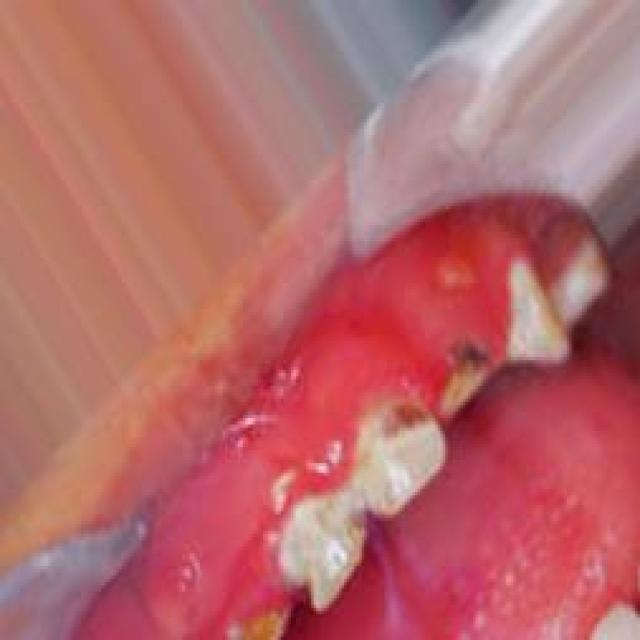caries: (432, 341, 500, 423), (374, 398, 434, 466)
